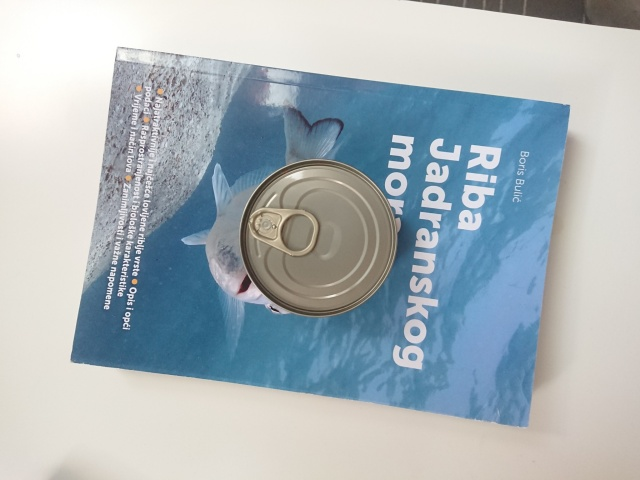Gavrilovic Pork Liver Pate 100g: (235, 155, 401, 320)
